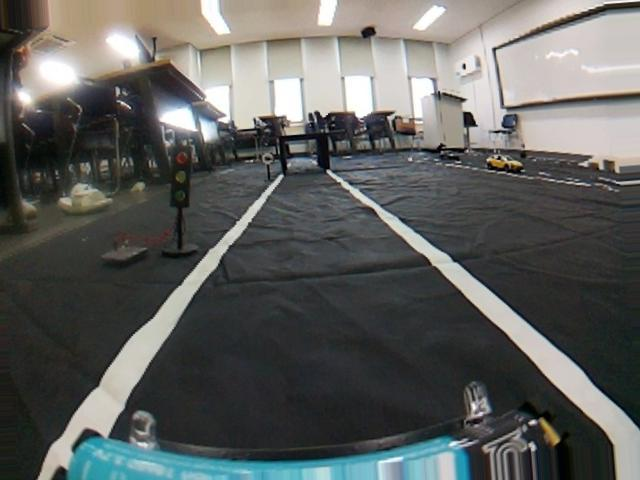red_light: (169, 140, 194, 209)
sign_tunnel: (262, 150, 274, 166)
straight: (0, 164, 640, 480)
